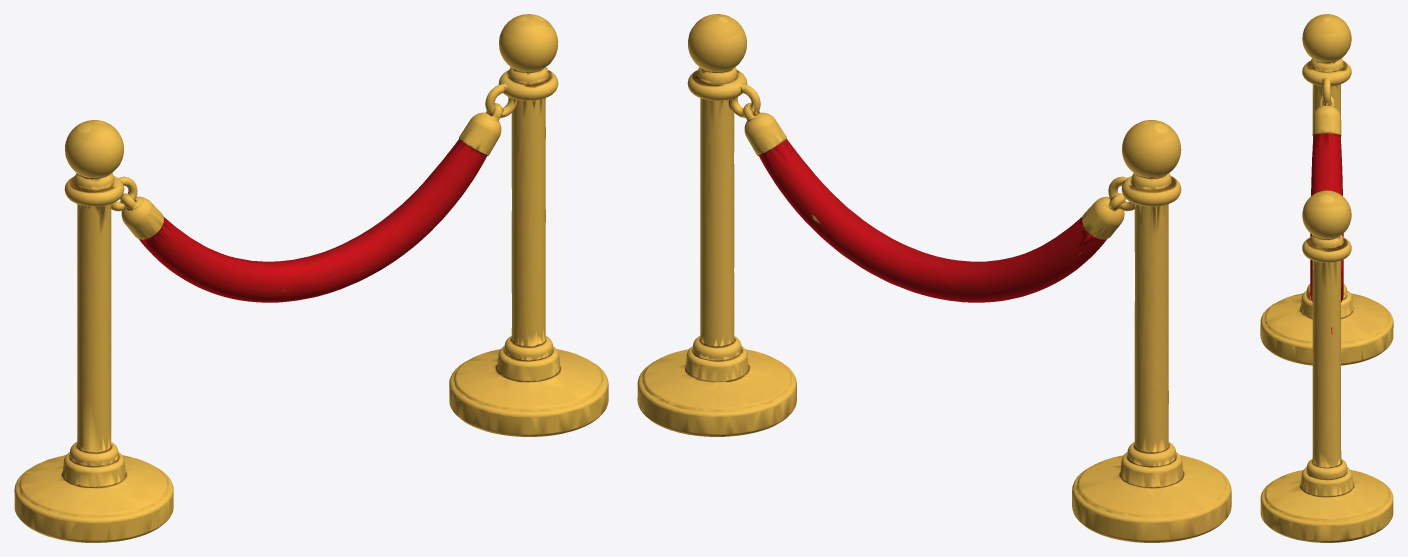
Rendered from vip_rope.glb.
The picture shows the model from 3 angles, left to right: view 1: azimuth 30°, elevation 25°; view 2: azimuth 150°, elevation 25°; view 3: azimuth 270°, elevation 25°; orthographic projection. The views are drawn at different scales.
Bounding box in the file's own units: 1.9 × 1.23 × 0.4596.
1 material, 1 textured.
